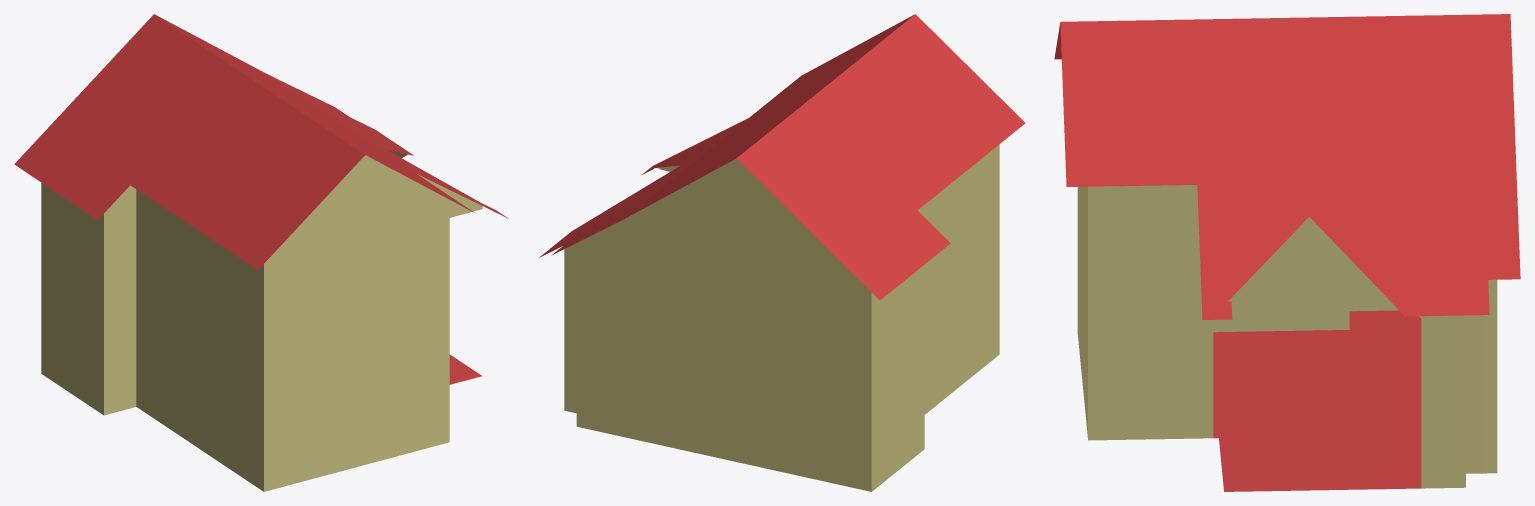
The picture shows the model from 3 angles, left to right: view 1: azimuth 30°, elevation 25°; view 2: azimuth 150°, elevation 25°; view 3: azimuth 270°, elevation 25°; orthographic projection. The views are drawn at different scales.
Bounding box in the file's own units: 21.28 × 20.68 × 17.86.
